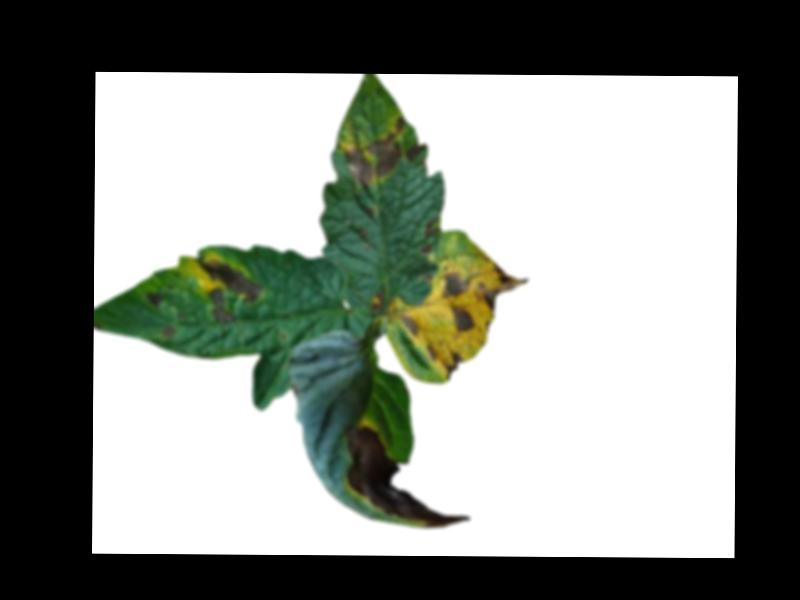Early_blight: (345, 426, 471, 529), (344, 116, 407, 189), (197, 257, 263, 325), (473, 262, 534, 311), (440, 271, 469, 300), (450, 304, 477, 334), (420, 220, 438, 257), (442, 352, 464, 382), (406, 141, 428, 163), (399, 315, 419, 339), (146, 290, 163, 309), (427, 344, 438, 364), (372, 291, 383, 311), (161, 328, 177, 338)
